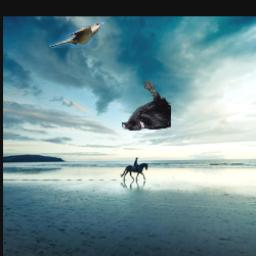Crow: (122, 80, 171, 132)
Cuckoo: (48, 21, 104, 48)
